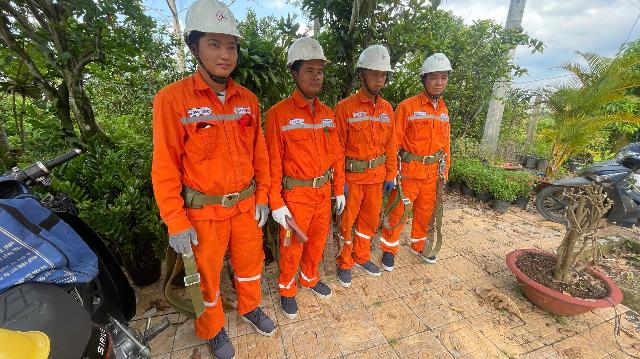gloves: (163, 222, 209, 258), (265, 200, 293, 230), (247, 198, 268, 228), (328, 195, 353, 218), (376, 179, 398, 201)
harness: (166, 180, 272, 214), (267, 164, 341, 190), (391, 144, 452, 169), (333, 150, 392, 175)
helmet: (170, 0, 255, 72), (341, 29, 400, 78), (284, 23, 330, 81), (411, 40, 454, 85)
shoes: (198, 318, 237, 359), (239, 302, 279, 337), (297, 267, 332, 301), (276, 284, 299, 322), (355, 252, 382, 283), (410, 242, 442, 265), (336, 258, 353, 287), (380, 249, 396, 273)
